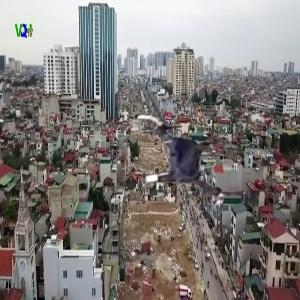drone: (122, 101, 242, 221)
